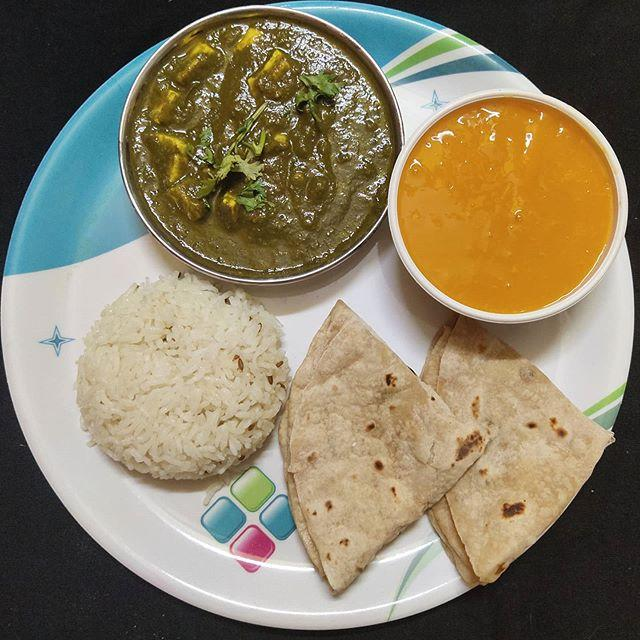Roti: (289, 306, 466, 576), (427, 328, 614, 581)
White Rice: (77, 274, 291, 480)
